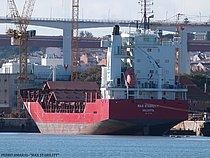Ship: (19, 19, 195, 138)
